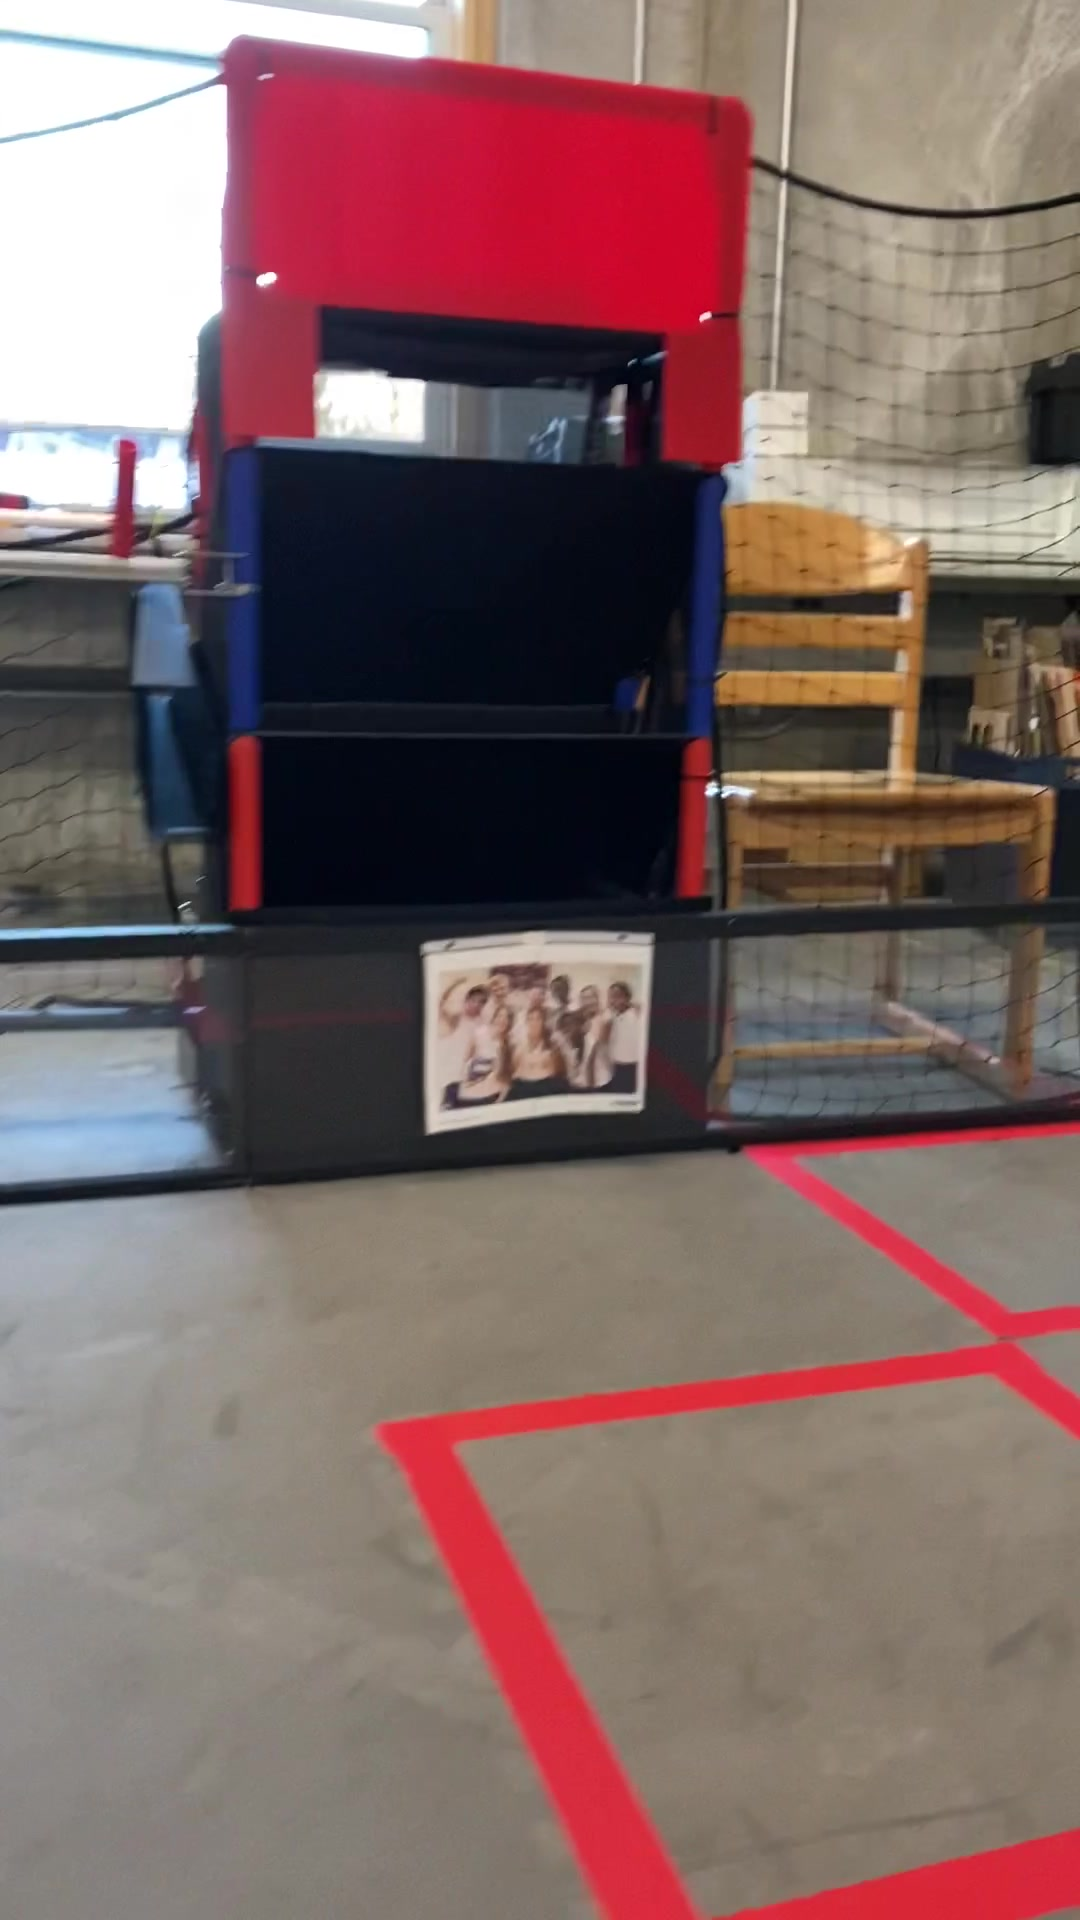high_goal: (311, 334, 671, 454)
